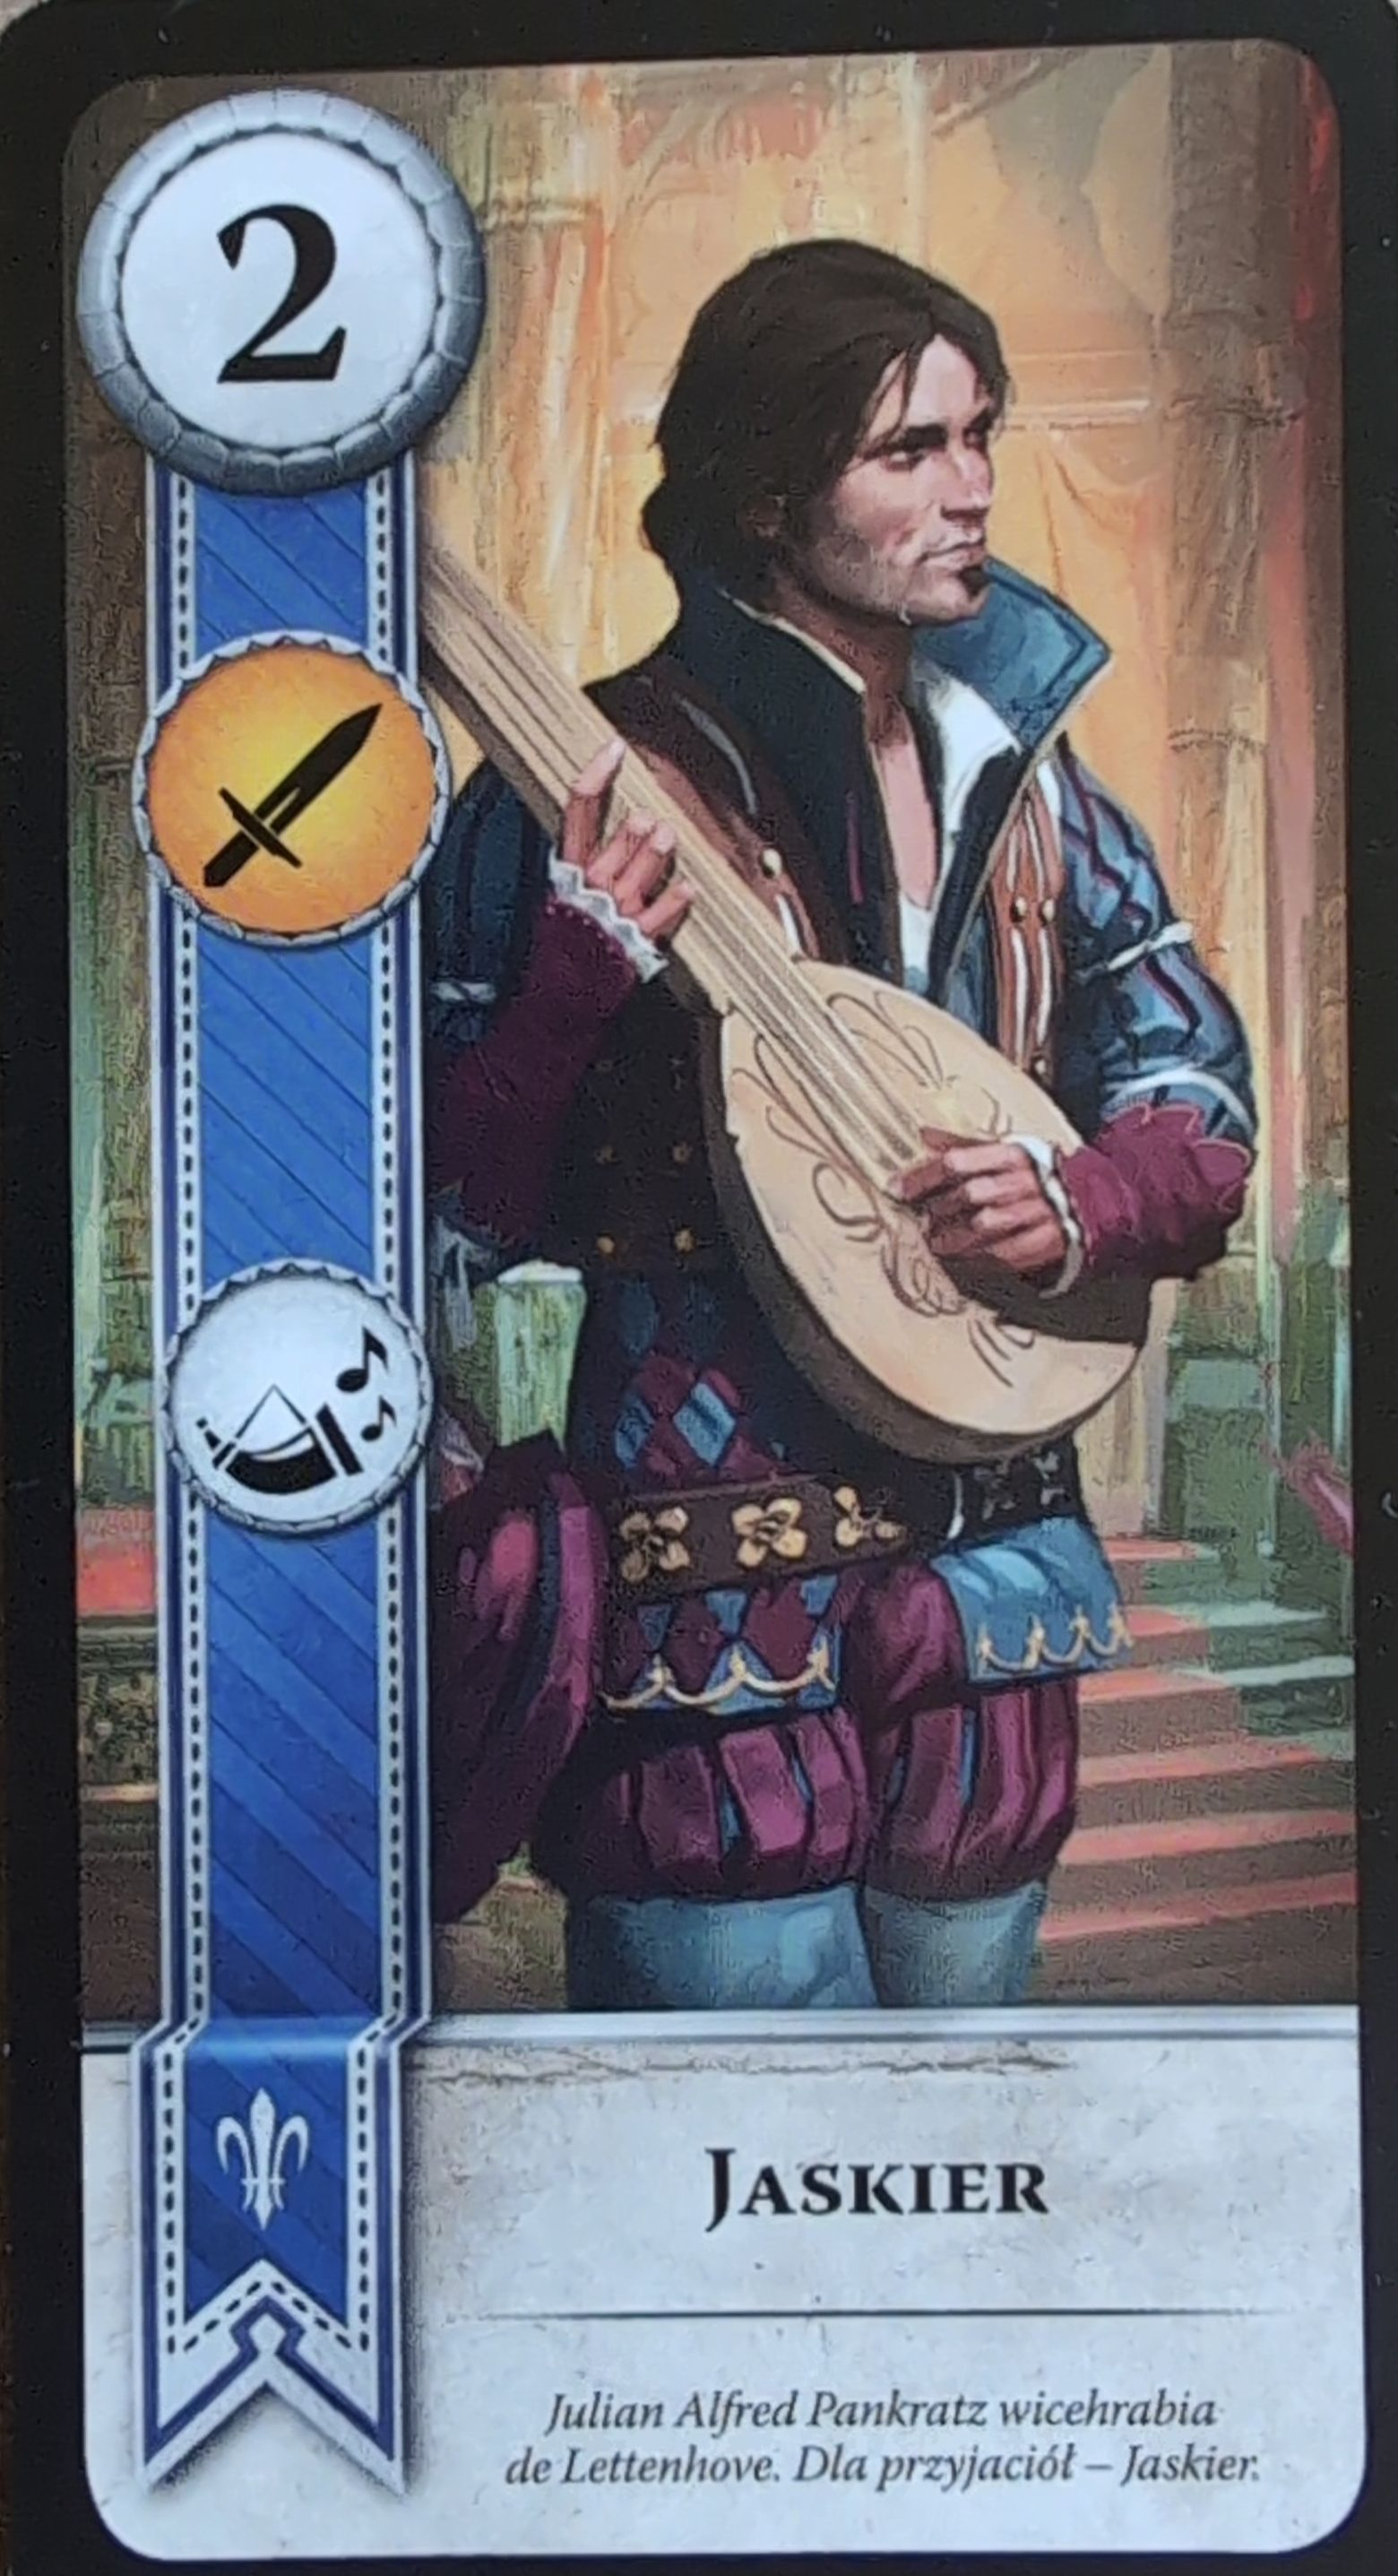miecz: (115, 598, 482, 956)
punkty: (74, 64, 504, 492)
rog: (134, 1224, 460, 1550)
